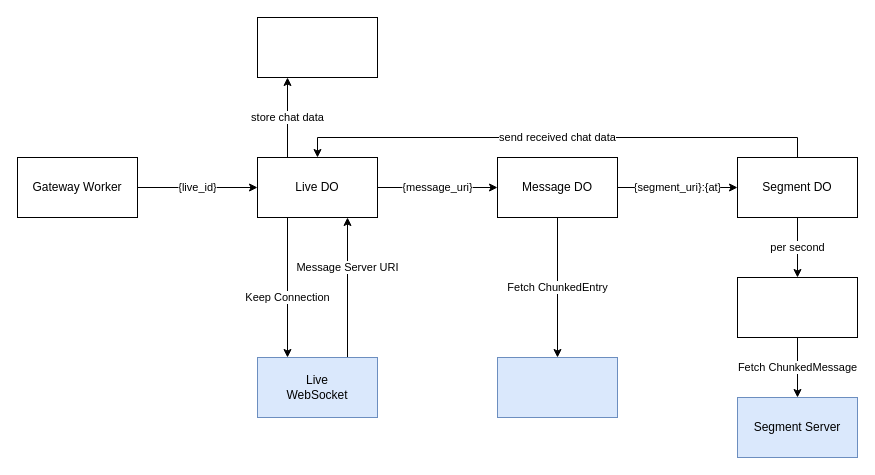
Image size: 875x475. Some labels were removed from this diagram. The shapes that lost their labels are listed below. From the top down, each one's box as (x1, y1, x2, y2) in pixels, then its label:
(256, 16, 378, 78): SQLite Storage
(736, 276, 858, 338): Alarm API
(496, 356, 618, 418): Message Server
